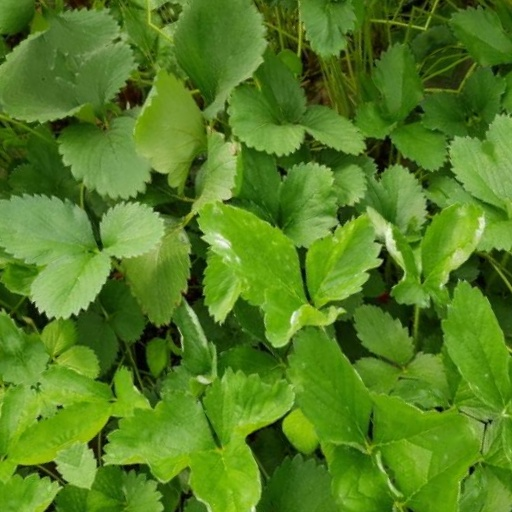Powdery Mildew Leaf: (217, 184, 297, 325), (349, 399, 424, 511), (305, 174, 386, 277), (32, 301, 119, 390), (200, 289, 286, 353), (113, 287, 158, 386), (333, 255, 378, 353)
